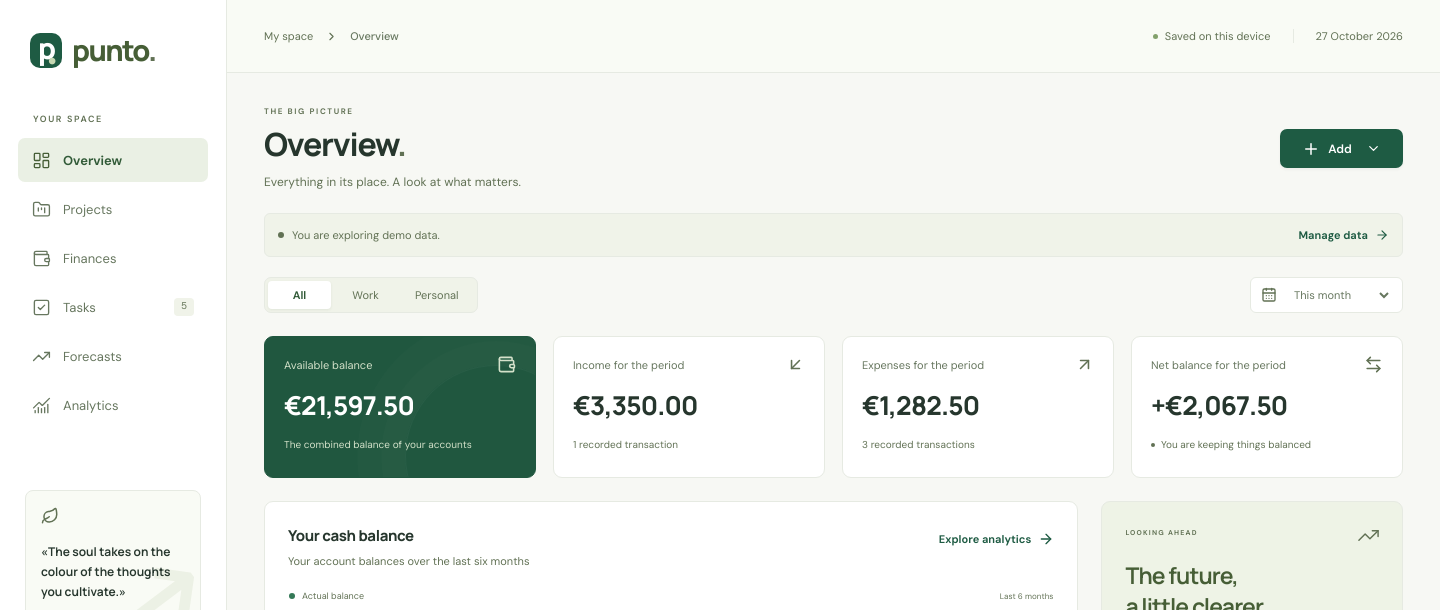
Scenario: cambio lingua nell’app › preserves the amount in a scenario adjustment when the language changes
This screenshot has width=1440, height=610.
Click the button "Forecasts": [113, 356] box x1=18 y1=334 x2=208 y2=378
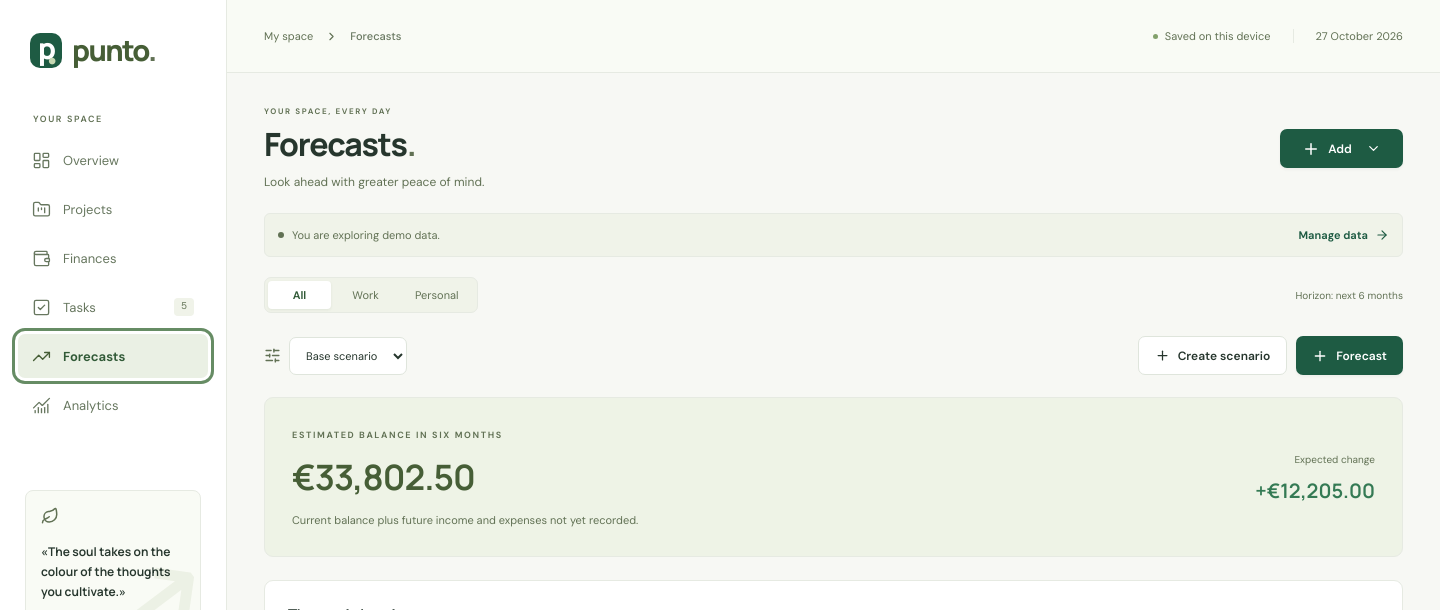
Select "My scenario" in the dropdown named "Scenario": [348, 356] box x1=289 y1=337 x2=407 y2=375
(page scrolled)
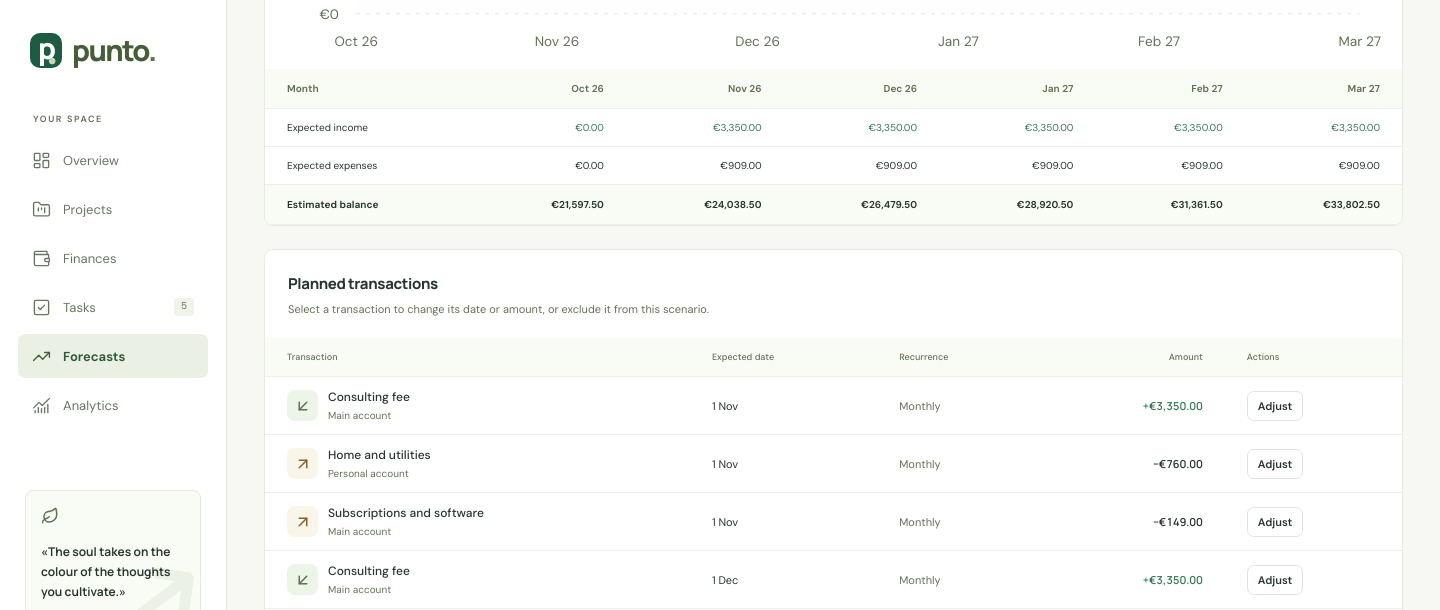
Click the 1st button "Adjust": [1275, 406] box x1=1247 y1=391 x2=1303 y2=421
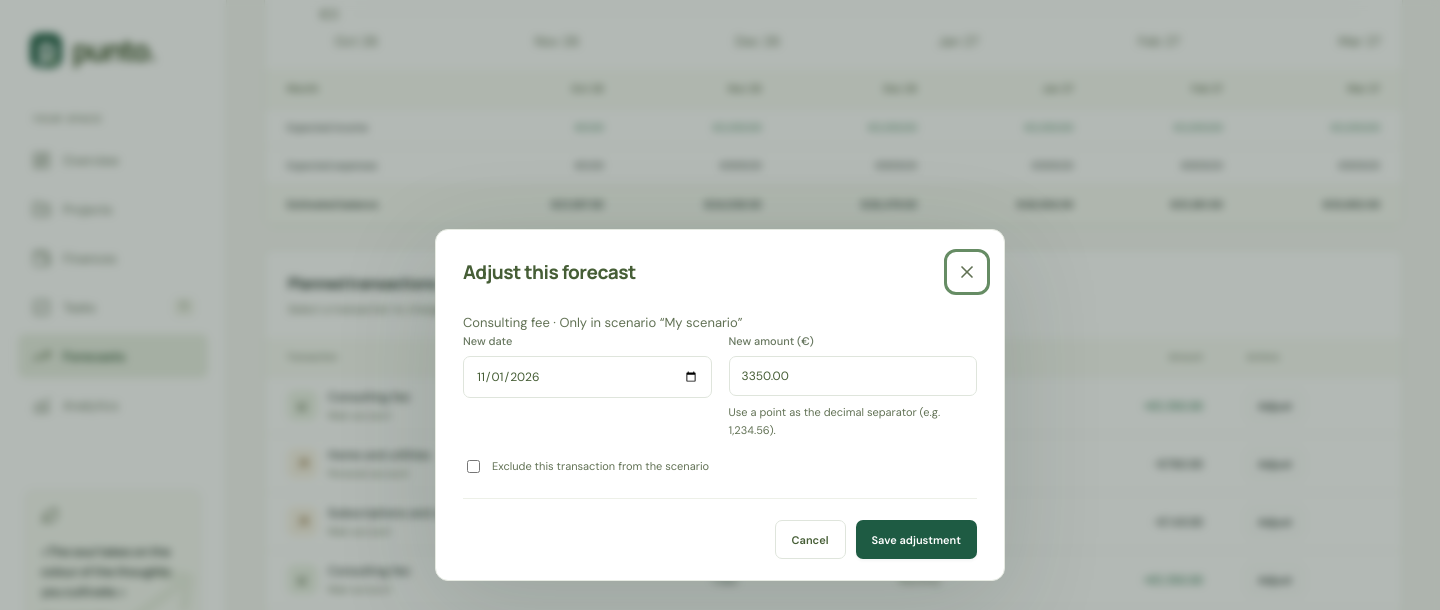
Replace the text in the field labelled "New amount (€)" with "12.34": [853, 376] box x1=728 y1=356 x2=977 y2=396
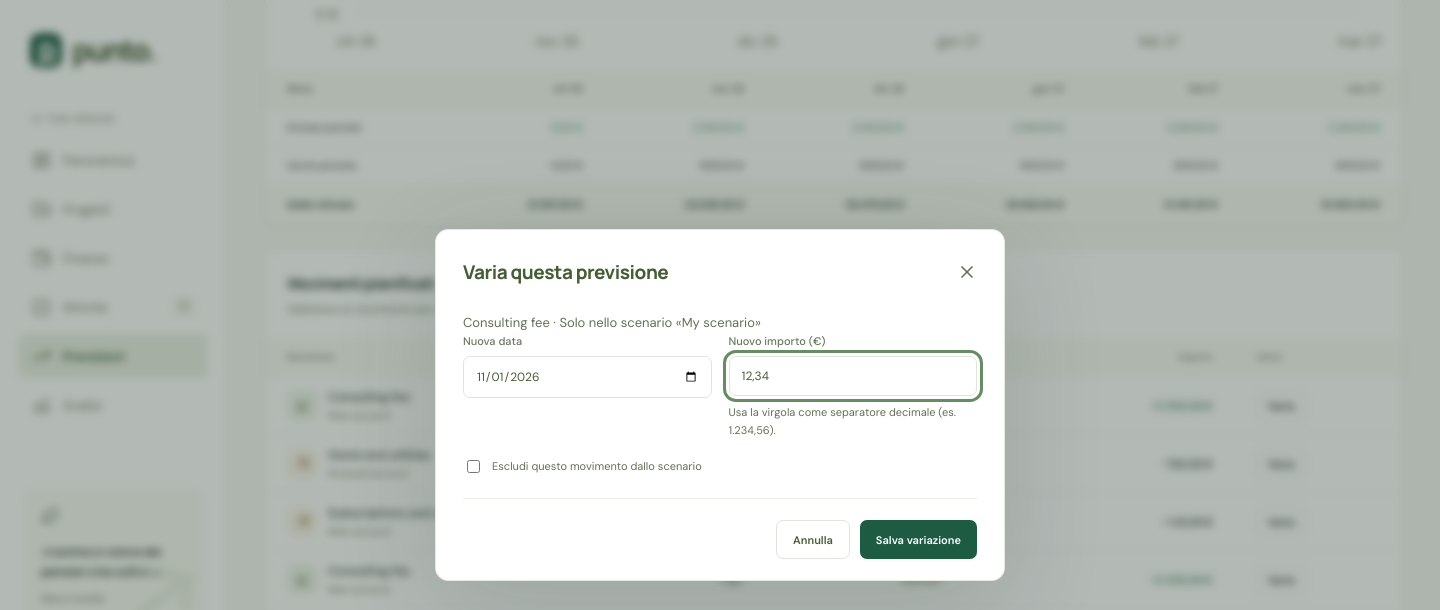
Result: the field named "New amount (€)" holds "12,34" at x1=728 y1=356 x2=977 y2=396
Click the button "Salva variazione": [918, 540] box x1=860 y1=520 x2=977 y2=559
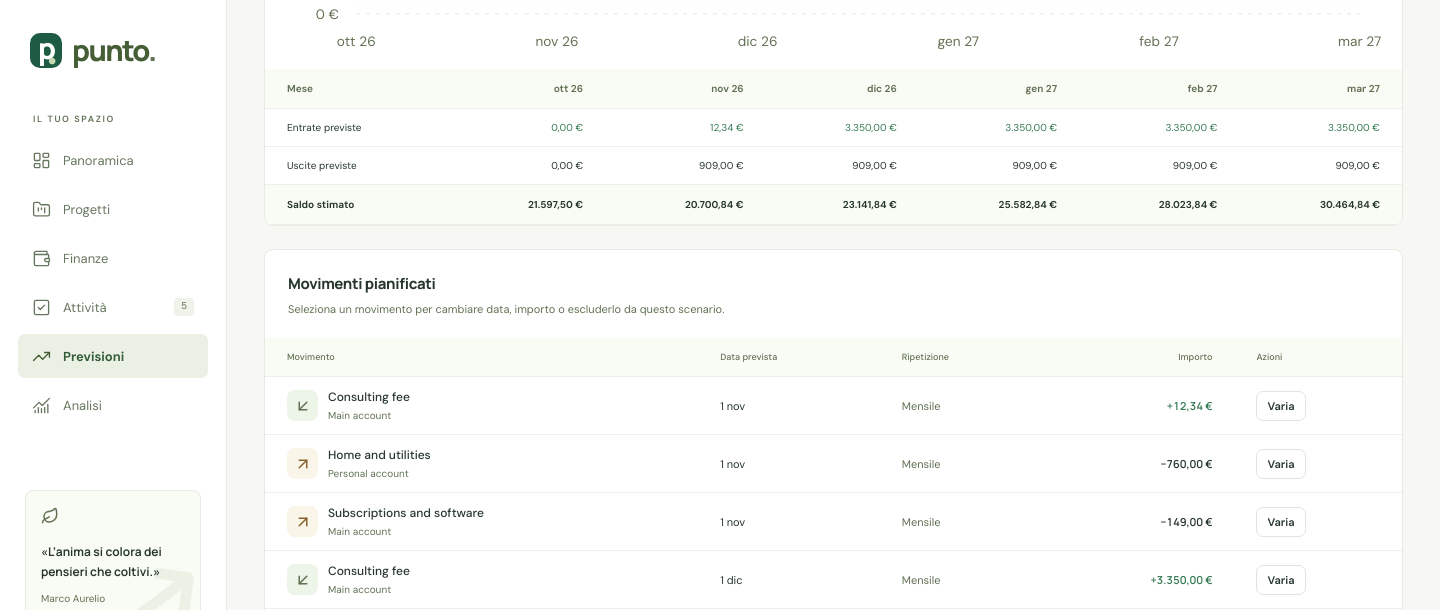
Result: the dialog is gone
